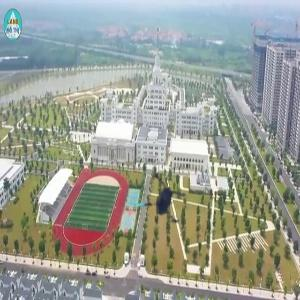drone: (110, 158, 197, 245)
